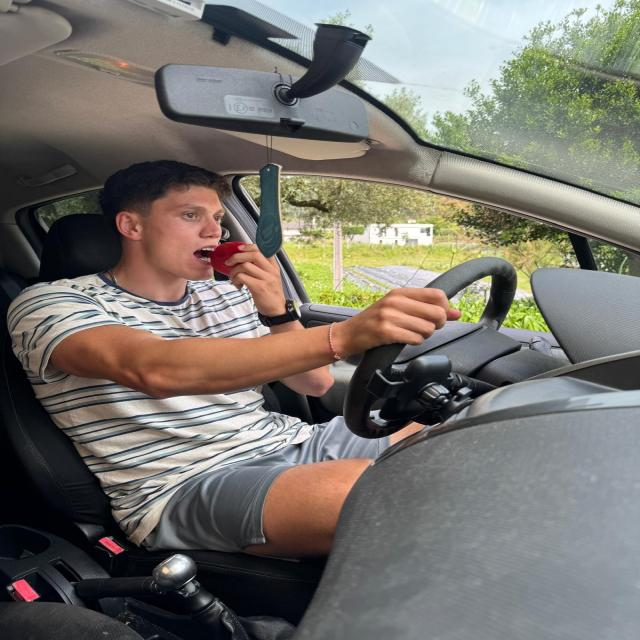Eating: (206, 221, 276, 299)
